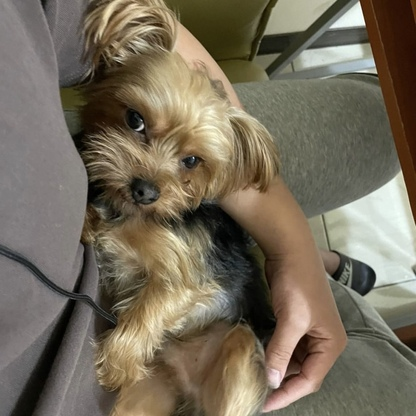yorkshire: (72, 3, 284, 406)
